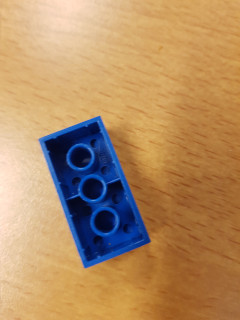2x4 blue: (36, 112, 162, 267)
